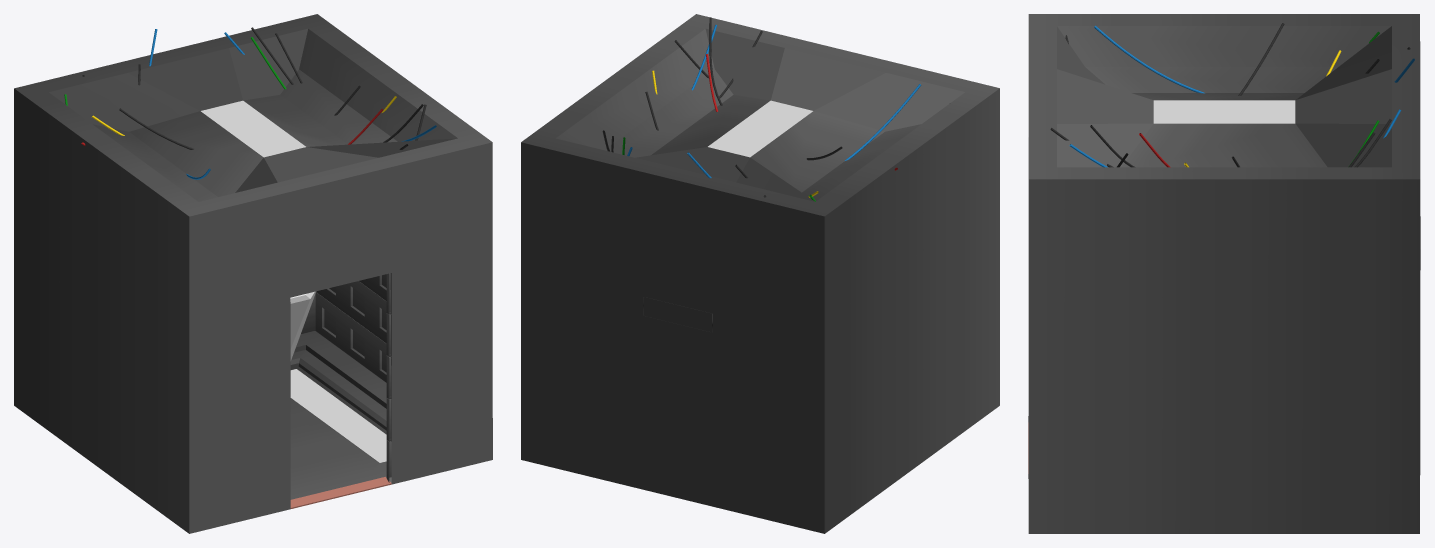
The model's file is Room5.fbx.
3 views of the same model, side by side, from view 1: azimuth 30°, elevation 25°; view 2: azimuth 150°, elevation 25°; view 3: azimuth 270°, elevation 25° (orthographic). The views are drawn at different scales.
Parts seen in each view (by area): view 1: room, wall_panels, cables_ceiling, etabli; view 2: room, cables_ceiling; view 3: room, cables_ceiling.
Part boxes in pixels (x1,y1,x2,y2): room: (14,14,492,533); wall_panels: (301,273,391,482); cables_ceiling: (64,27,436,179); etabli: (290,291,316,360); room: (521,14,999,533); cables_ceiling: (602,17,921,201); room: (1028,14,1420,533); cables_ceiling: (1050,23,1414,167).
Size of the model in its own units: 303 by 333 by 300.
